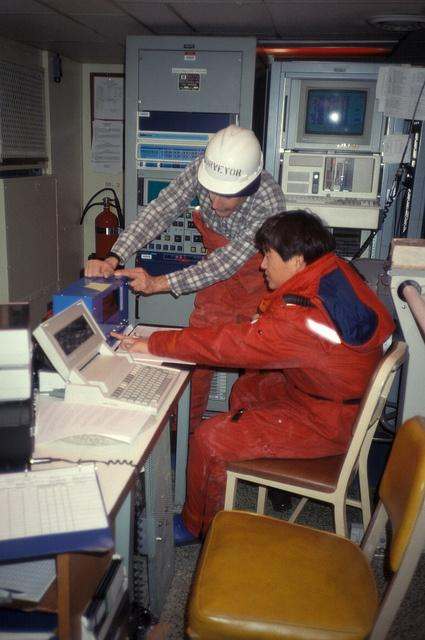APAR: (94, 196, 118, 259)
Kursi: (187, 413, 424, 639), (222, 339, 409, 538)
